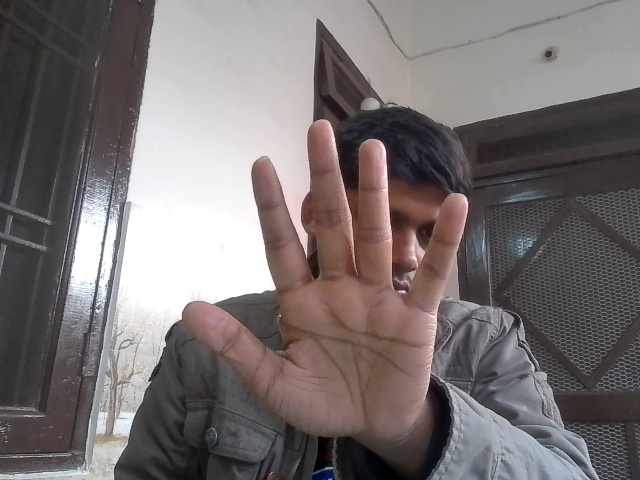Hello: (169, 107, 464, 430)
